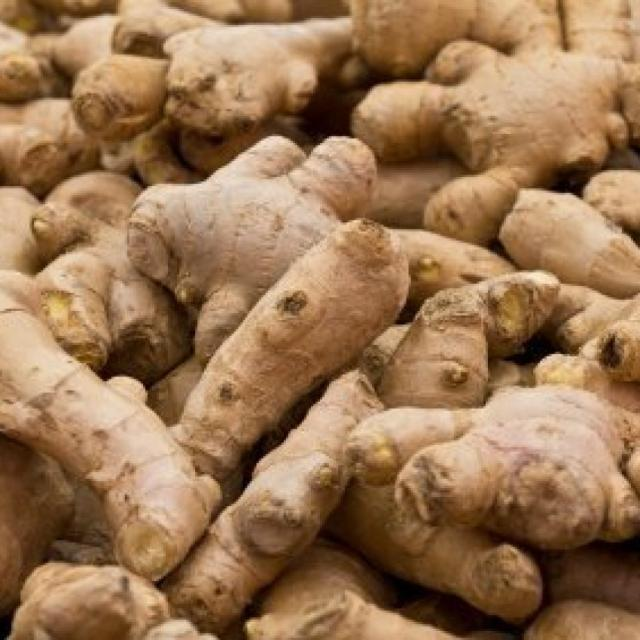ginger: (125, 109, 415, 381), (349, 391, 640, 543)
